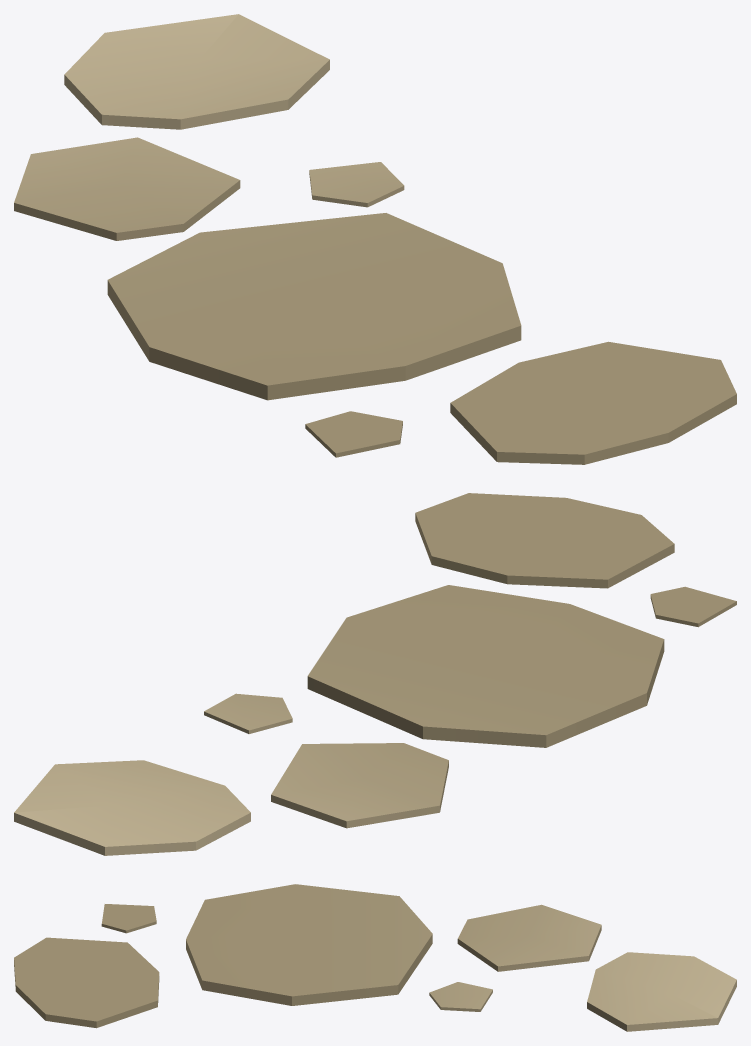
Rendered from Road_Pebble.fbx.
3 renders of one model, top to bottom at view 1: azimuth 30°, elevation 25°; view 2: azimuth 150°, elevation 25°; view 3: azimuth 270°, elevation 25°, orthographic. The views are drawn at different scales.
Visible parts, largest first — view 1: Road_PebblePiece_D, Road_PebblePiece_F, Road_PebblePiece_A, Road_PebblePiece_B, Road_PebblePiece_C, Road_PebblePiece_E; view 2: Road_PebblePiece_D, Road_PebblePiece_F, Road_PebblePiece_A, Road_PebblePiece_B, Road_PebblePiece_C, Road_PebblePiece_E; view 3: Road_PebblePiece_D, Road_PebblePiece_F, Road_PebblePiece_A, Road_PebblePiece_B, Road_PebblePiece_C, Road_PebblePiece_E.
Boxes of the visible parts, x1,y1,x2,y2 form: Road_PebblePiece_D: (107,213,521,400); Road_PebblePiece_F: (450,341,736,464); Road_PebblePiece_A: (64,14,329,129); Road_PebblePiece_B: (14,137,240,240); Road_PebblePiece_C: (309,162,404,207); Road_PebblePiece_E: (305,411,402,457); Road_PebblePiece_D: (307,585,664,747); Road_PebblePiece_F: (415,493,674,588); Road_PebblePiece_A: (14,760,250,855); Road_PebblePiece_B: (271,743,448,828); Road_PebblePiece_C: (204,693,292,733); Road_PebblePiece_E: (650,586,736,627); Road_PebblePiece_D: (186,884,432,1005); Road_PebblePiece_F: (14,937,159,1028); Road_PebblePiece_A: (587,952,736,1031); Road_PebblePiece_B: (457,904,601,971); Road_PebblePiece_C: (429,982,492,1011); Road_PebblePiece_E: (101,904,156,933).
Size of the model in its own units: 1.03 by 0.0334 by 2.26.
Materials: 1 (1 with a texture image).
